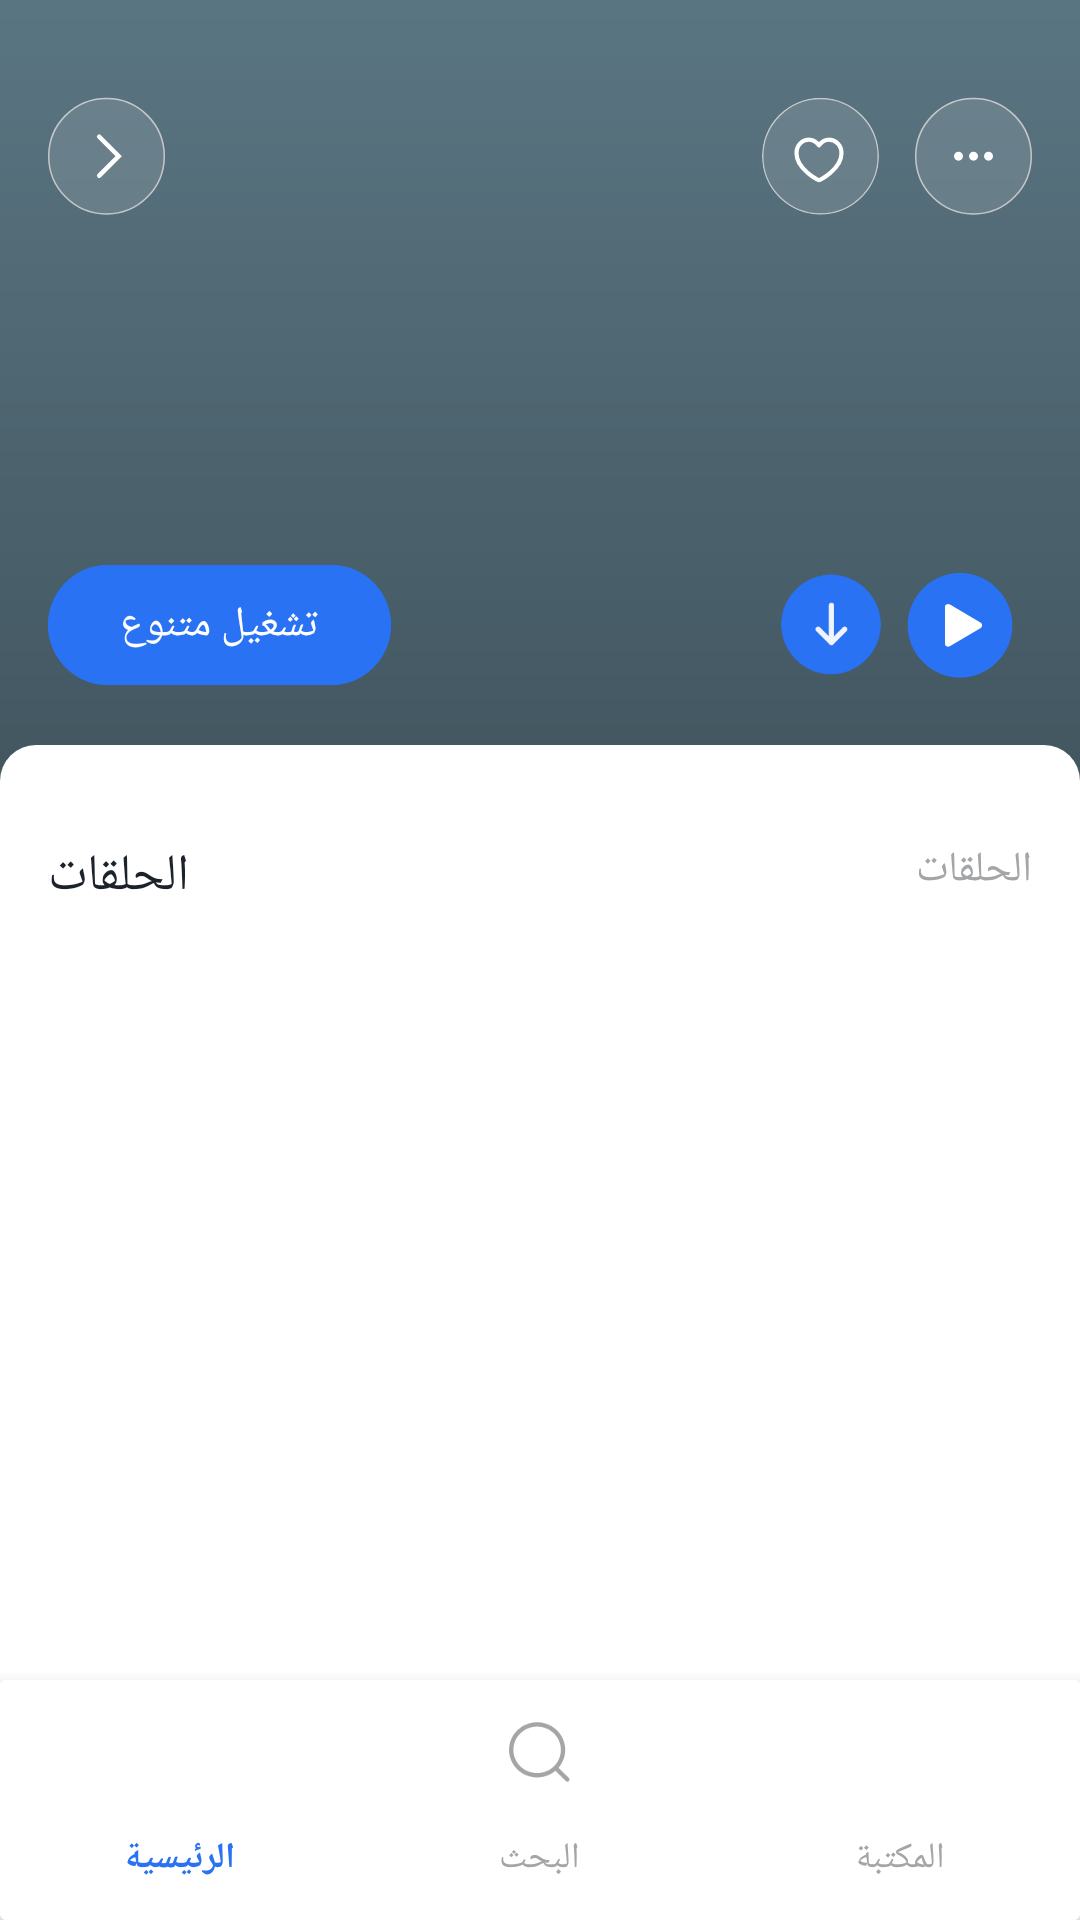

Screen size 1080×1920. Icon name, then its center in pixels as point (x, y):
download: point (831, 624)
like: point (820, 156)
more: point (973, 156)
play: point (960, 625)
